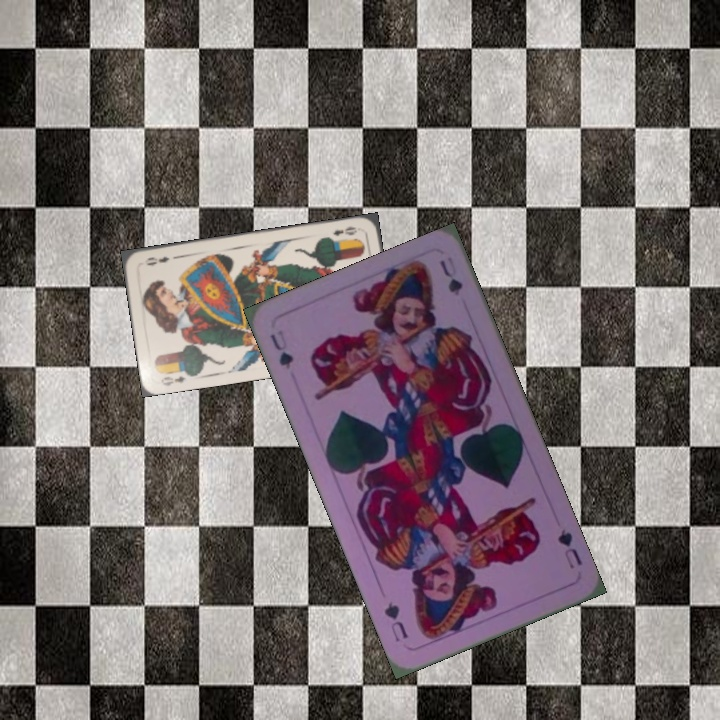EO: (329, 222, 359, 239), (157, 372, 187, 388)
GU: (553, 525, 585, 572), (265, 326, 296, 372)
